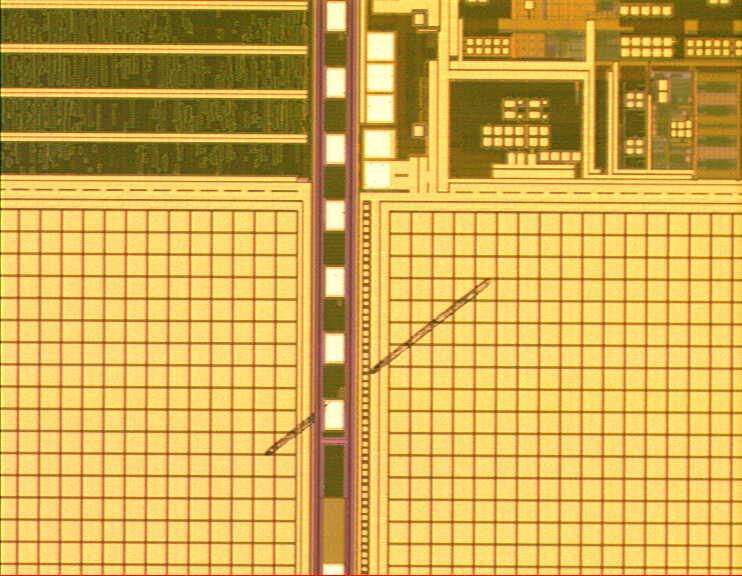SCRATCH: (247, 267, 506, 466)
